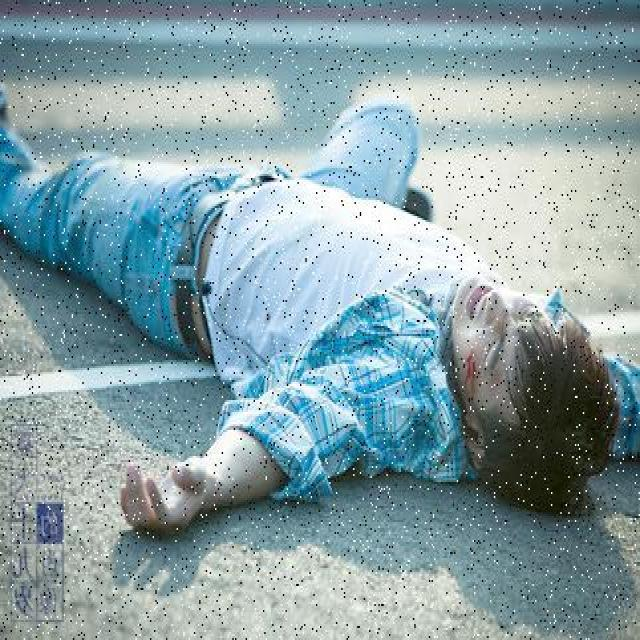fall: (10, 76, 618, 520)
